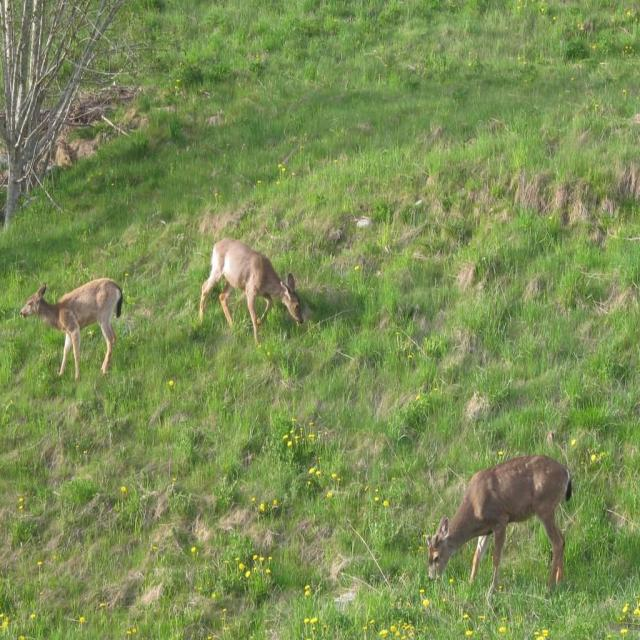Deer: (427, 456, 575, 593), (200, 236, 302, 343), (19, 275, 123, 373)
